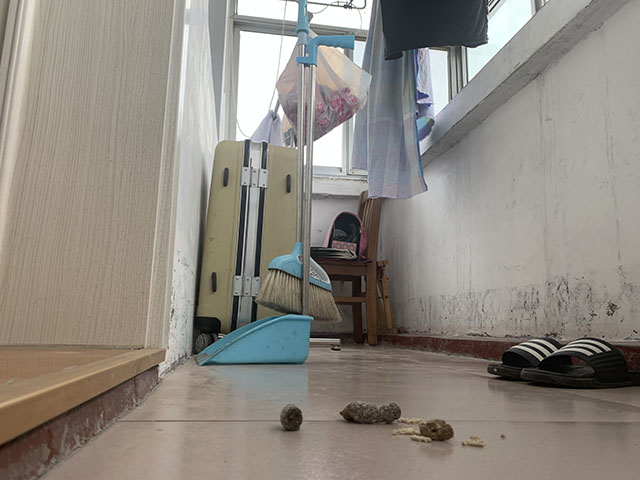feces: (338, 400, 402, 426), (418, 418, 454, 442), (280, 402, 303, 432)
slippers: (487, 335, 640, 392)
stool: (311, 189, 383, 347), (374, 259, 394, 332)
